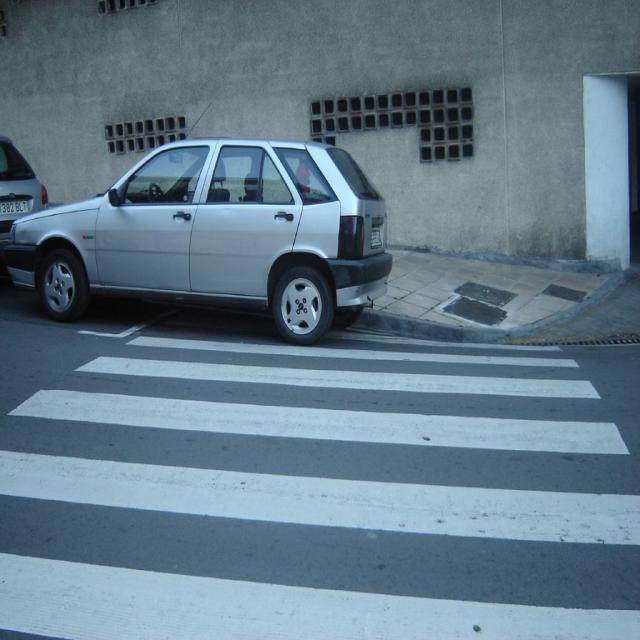car: (1, 102, 391, 346)
